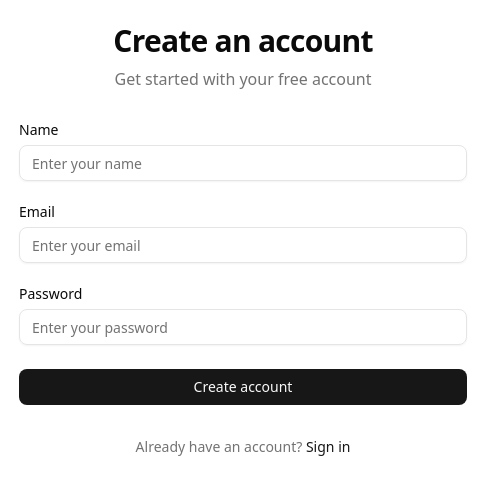
Test: Register › shows validation error for password without uppercase
Type "John Doe" into the field labelled "Name".
click(243, 163); type("John Doe")  # box [19,145,467,181]
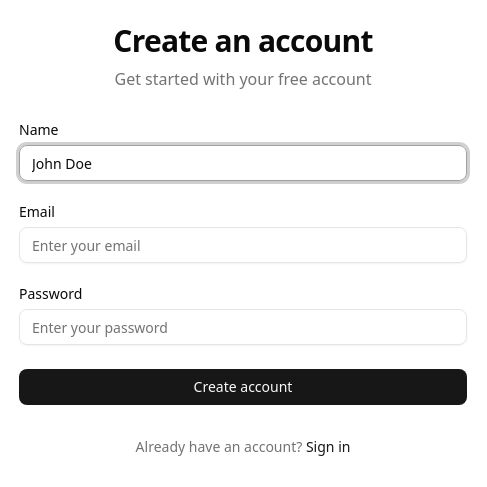
Type "john@example.com" into the field labelled "Email".
click(243, 245); type("john@example.com")  # box [19,227,467,263]
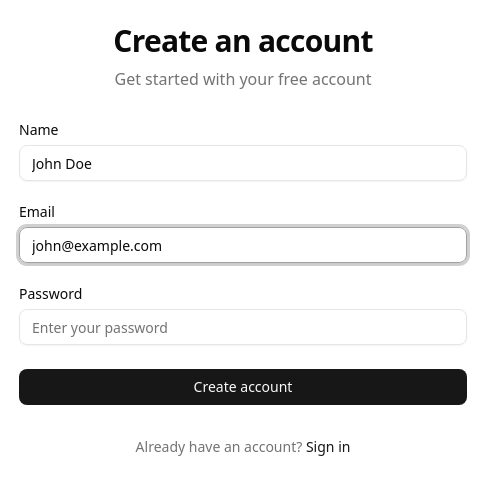
Type "password1!" into the password field labelled "Password".
click(243, 327); type("password1!")  # box [19,309,467,345]
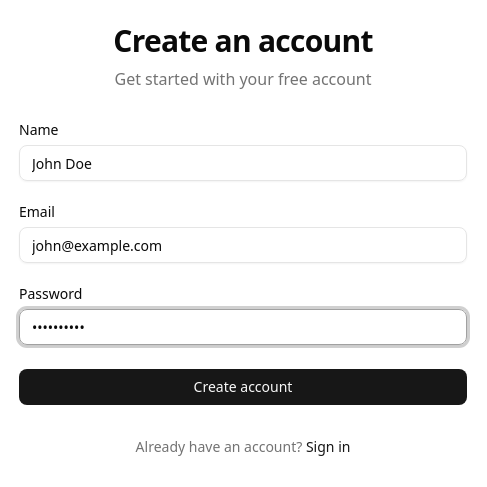
Click the button "Create account".
click(243, 387)  # box [19,369,467,405]
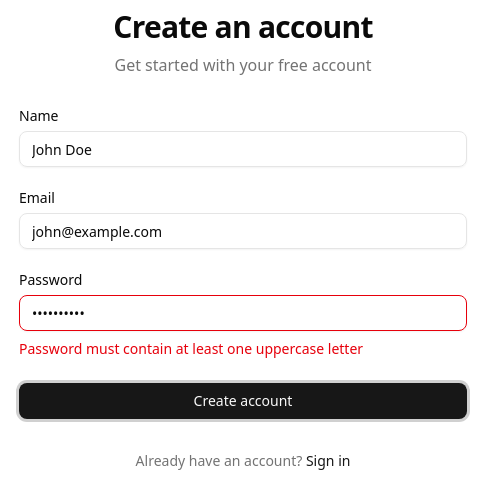
Expected: the text "Password must contain at least one uppercase letter" is shown, [19,339,363,358]
